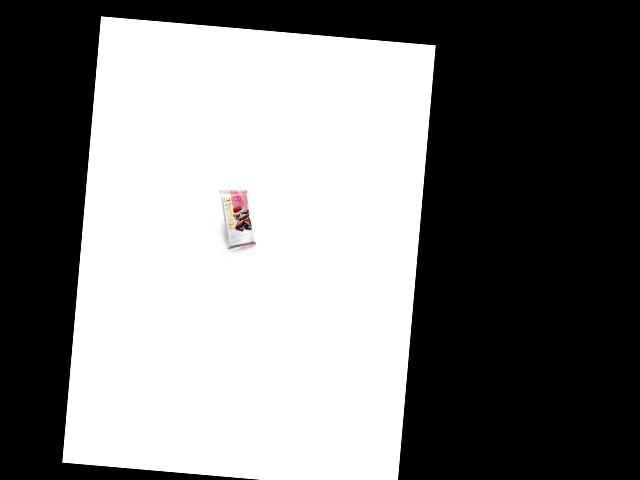chocolate: (214, 188, 261, 250)
